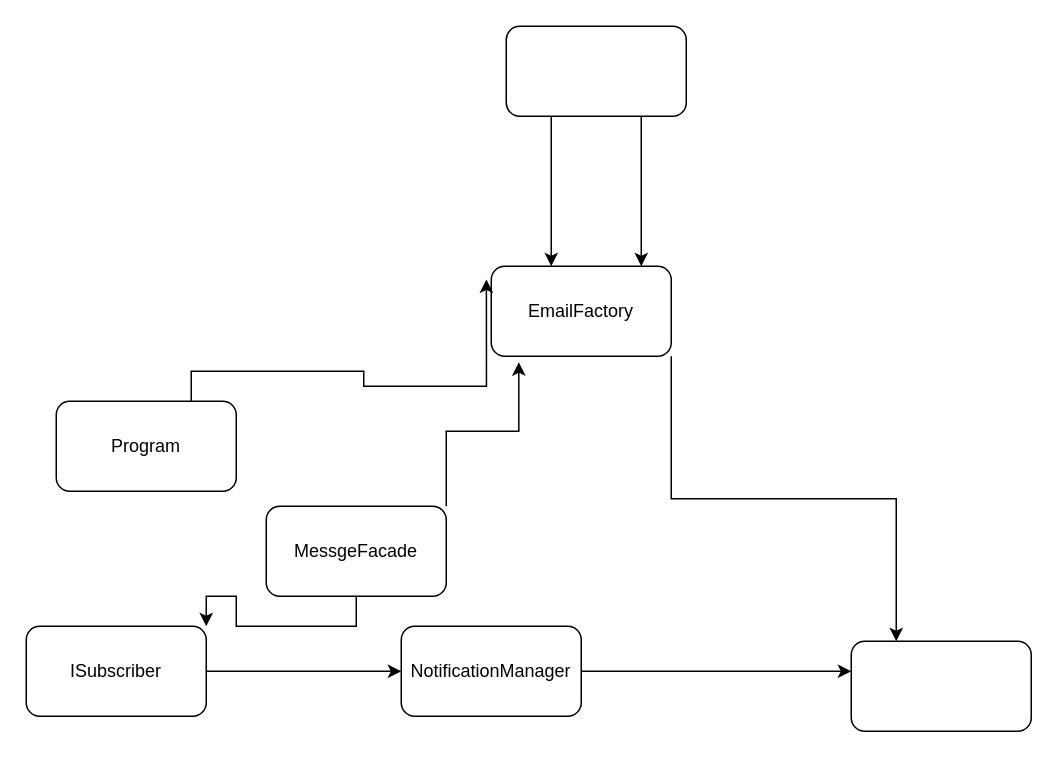
Image size: 1058x758. Some labels were removed from this diagram. Each missing label, with the box of its shape:
IMessage: (850, 640, 1031, 731)
MessageFactory: (505, 25, 686, 116)
